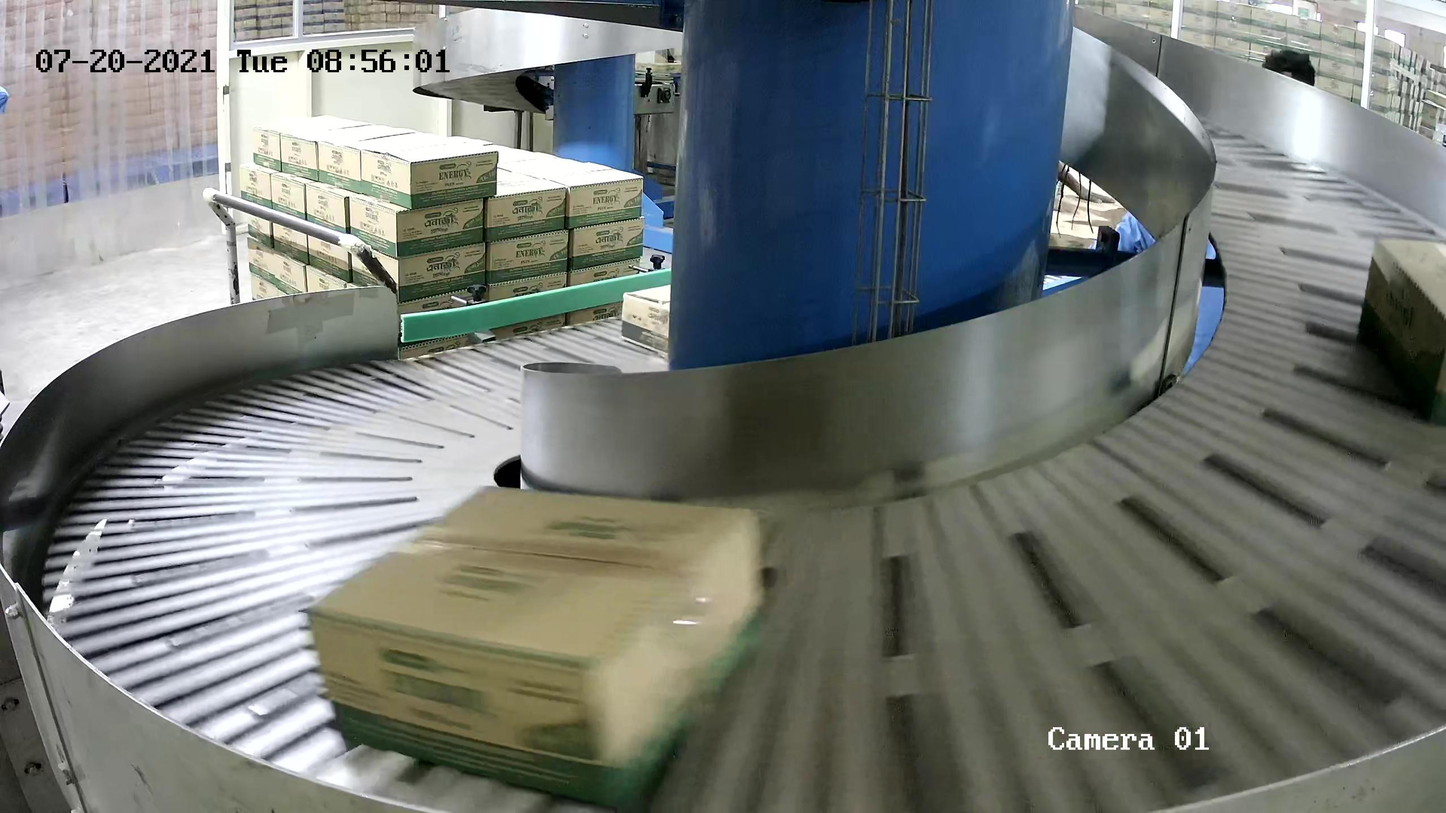Box: (296, 481, 771, 813), (1358, 235, 1446, 427), (621, 284, 671, 357)
